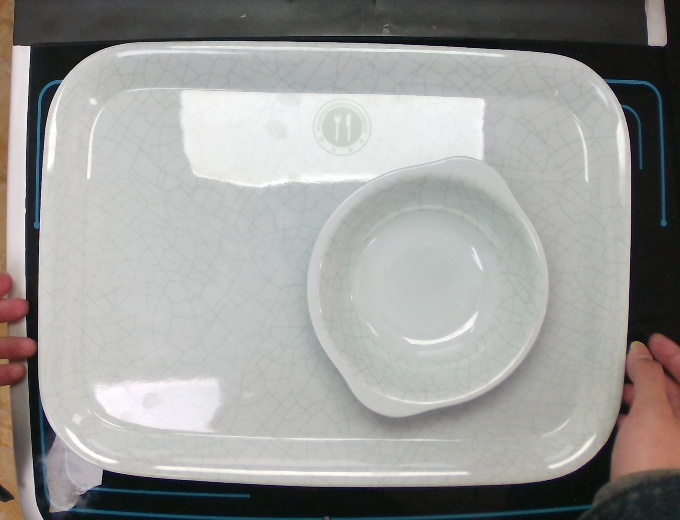JYsf-Shuang_Er_Wan: (302, 148, 555, 422)
